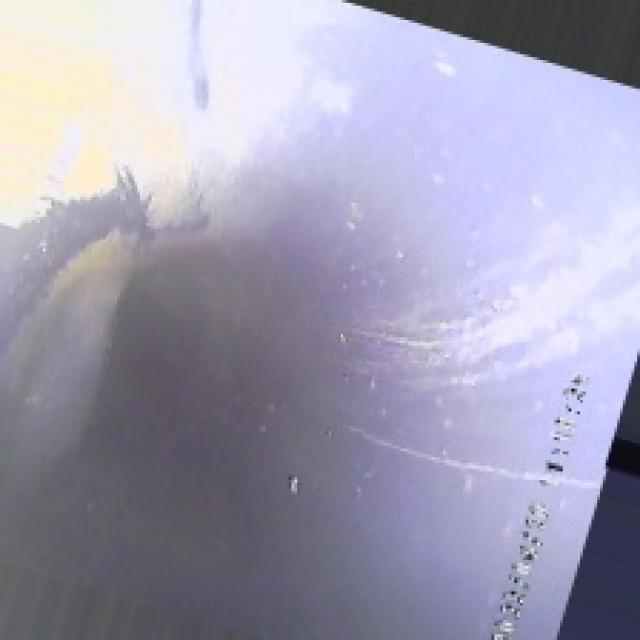shape_deformation: (46, 143, 440, 534)
